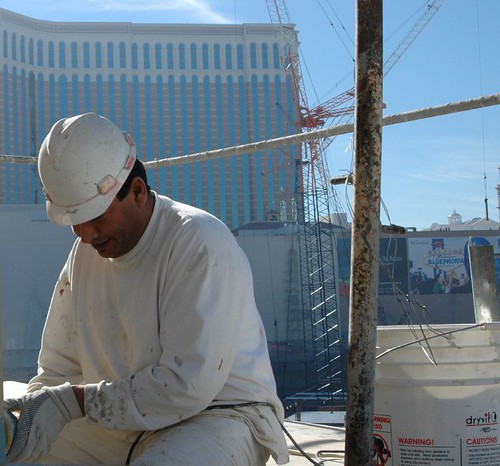person hardhat: (1, 94, 303, 466)
